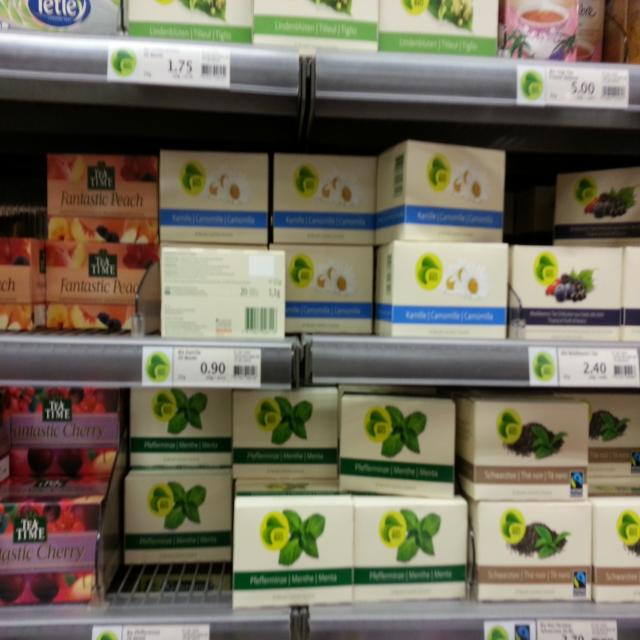Tea: (232, 481, 353, 609), (0, 477, 114, 603), (456, 395, 589, 502), (373, 140, 505, 244), (374, 242, 507, 341), (467, 502, 591, 603), (341, 391, 456, 499), (161, 247, 285, 343), (354, 498, 468, 602), (159, 148, 269, 245), (510, 246, 622, 341), (46, 241, 158, 335), (10, 386, 123, 476), (48, 152, 158, 242), (125, 473, 232, 564), (233, 392, 341, 482), (273, 242, 373, 332), (274, 152, 374, 242), (128, 387, 232, 466), (552, 163, 640, 244), (591, 495, 640, 602), (589, 394, 640, 486), (503, 0, 579, 61)
